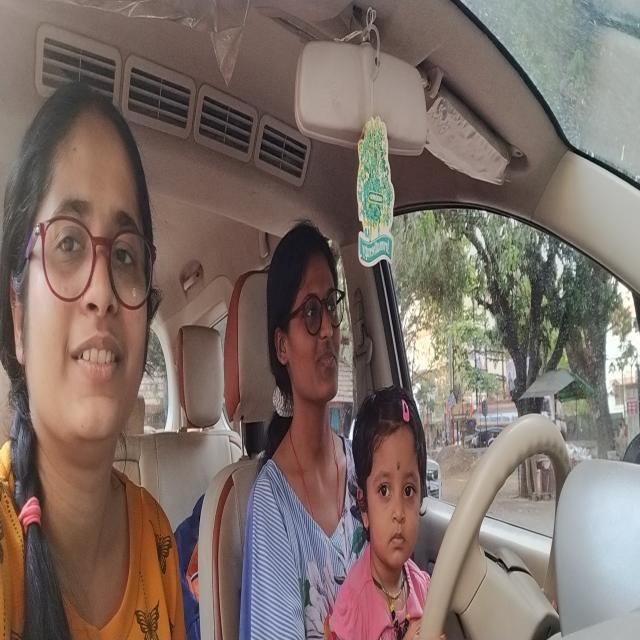child: (349, 386, 428, 570)
person: (0, 70, 159, 450), (266, 215, 347, 402)
